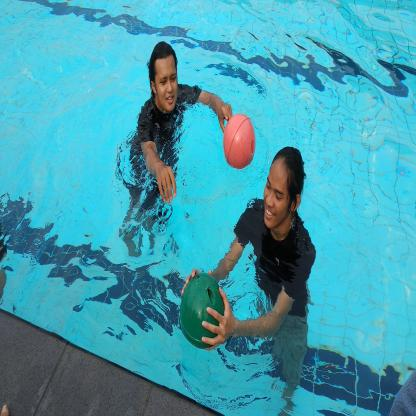green_buoy: (177, 268, 227, 352)
red_buoy: (219, 107, 258, 176)
